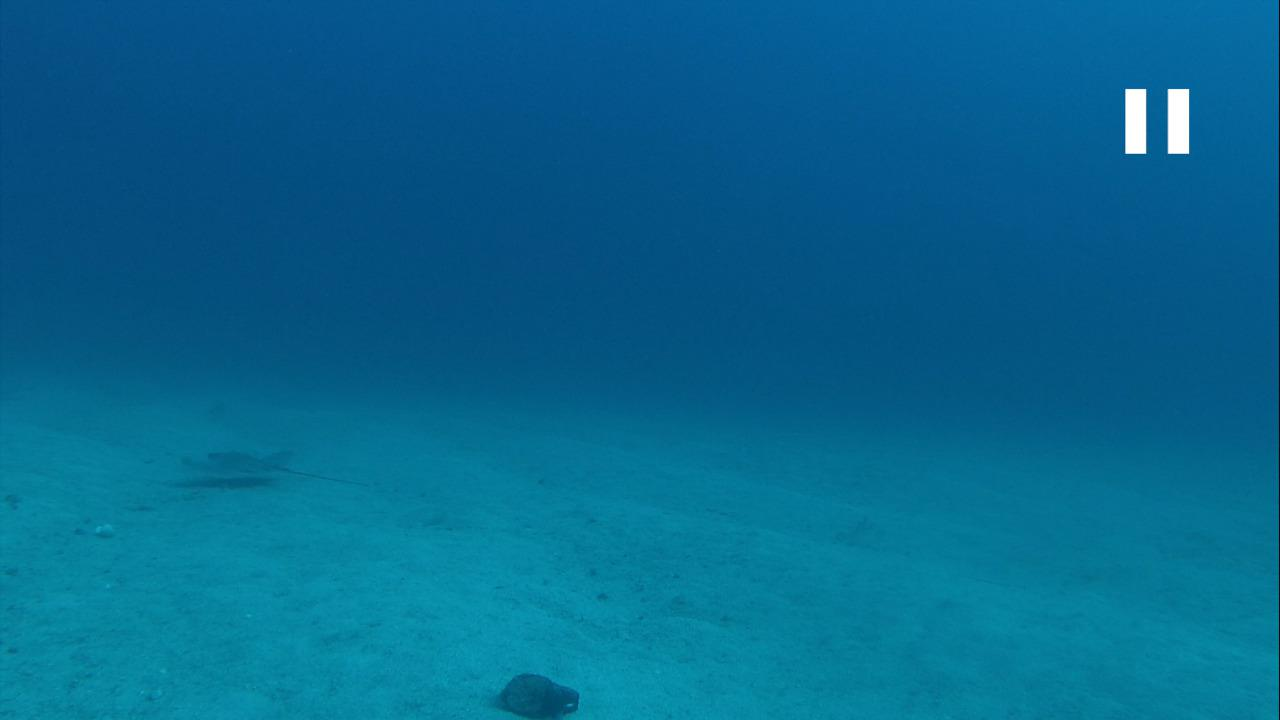myliobatis: (169, 438, 386, 492)
